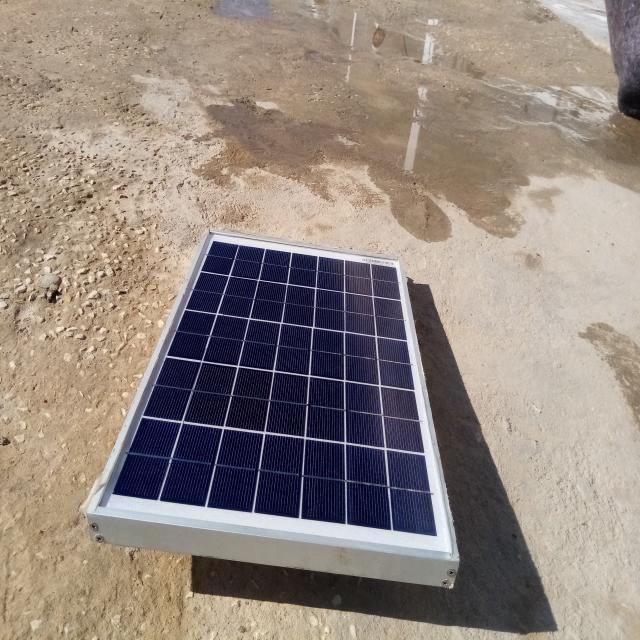no faulty: (89, 229, 457, 559)
